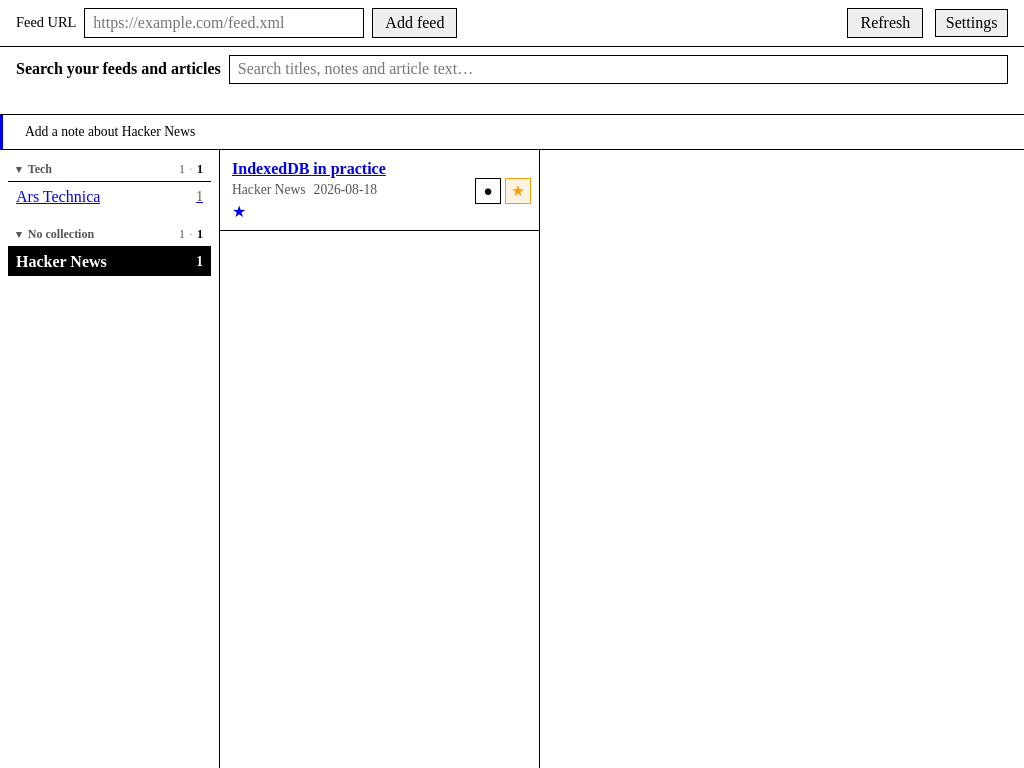
Scenario: App › responsive layout › navigates to the reading pane on selection and back to the list via an explicit control
Click the button "IndexedDB in practice Hacker News 2026-08-18 ★".
click(380, 191)  # box top-left (220, 150), bottom-right (539, 231)
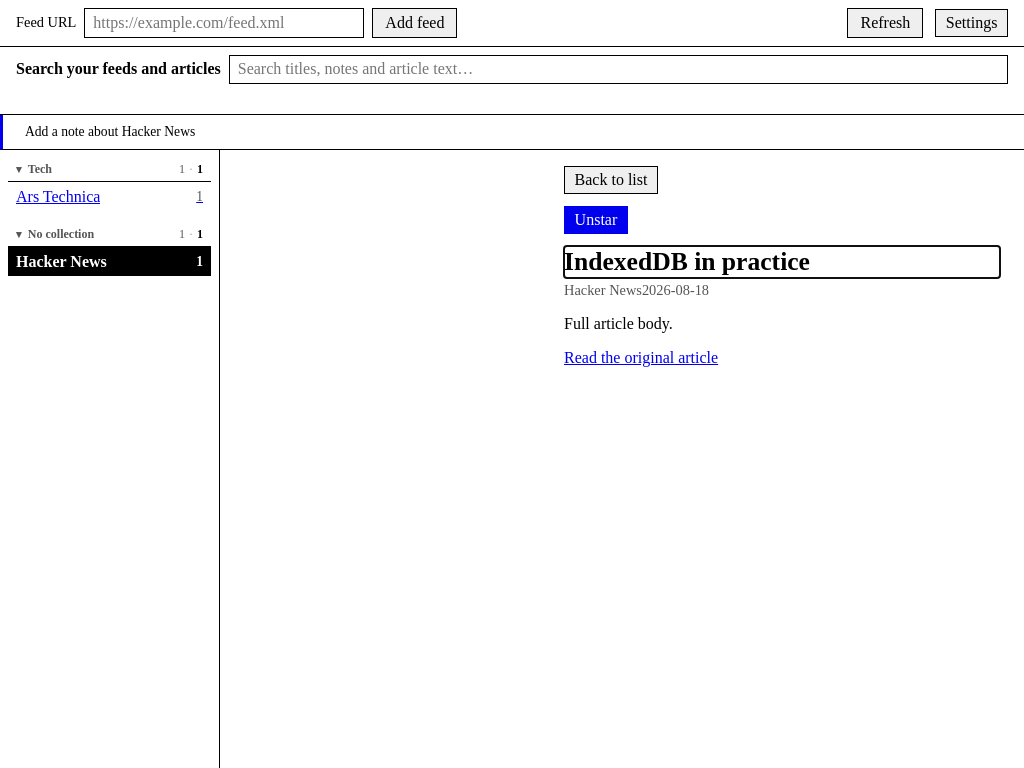
Expected: the list "Entries" is gone
Expected: the element named "Reading pane" is shown, top-left (540, 150), bottom-right (1023, 767)
Click the button "Back to list".
click(611, 180)  # box top-left (564, 166), bottom-right (658, 194)
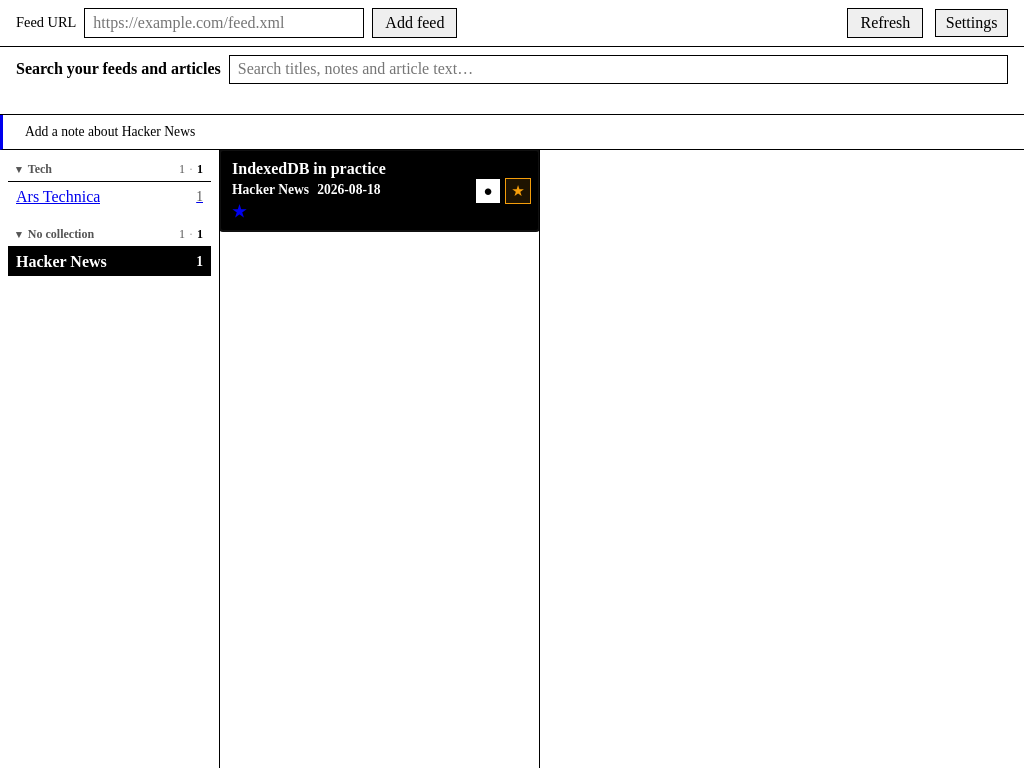
Expected: the list named "Entries" is shown, top-left (220, 150), bottom-right (540, 767)
